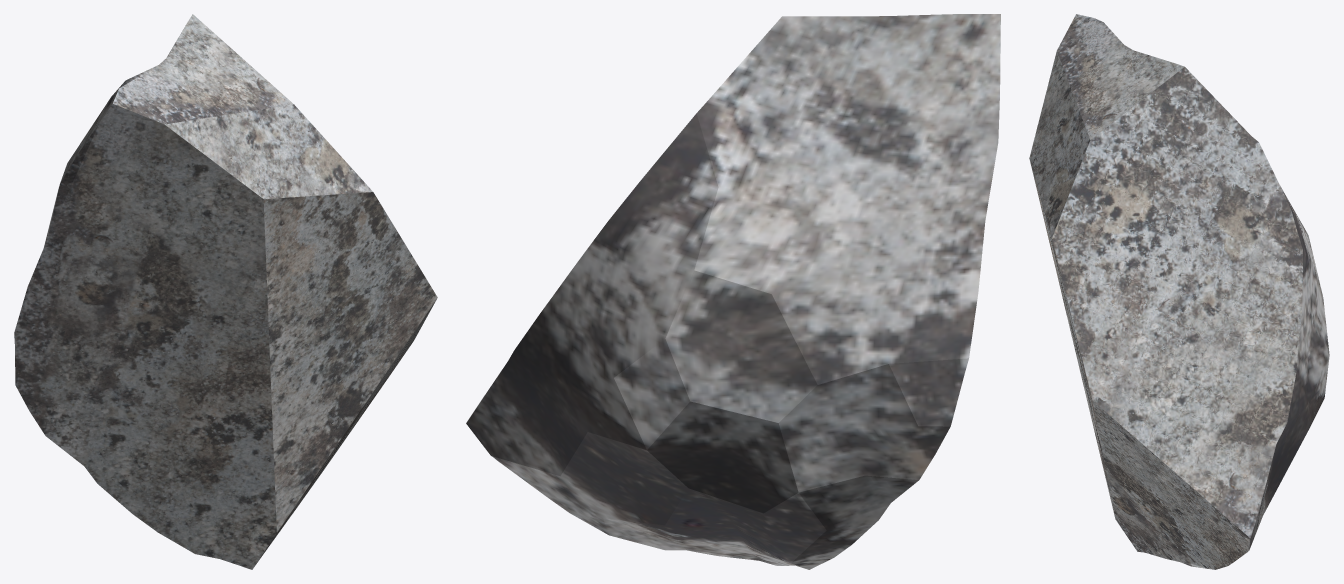
The model's file is Asteroid_Large_001_02_003.fbx.
3 views of the same model, side by side, from view 1: azimuth 30°, elevation 25°; view 2: azimuth 150°, elevation 25°; view 3: azimuth 270°, elevation 25° (orthographic). The views are drawn at different scales.
Visible parts, largest first — view 1: Asteroid_Large_001_02_003; view 2: Asteroid_Large_001_02_003; view 3: Asteroid_Large_001_02_003.
Boxes of the visible parts, x1=… form: Asteroid_Large_001_02_003: x1=14, y1=14, x2=437, y2=569; Asteroid_Large_001_02_003: x1=466, y1=14, x2=1000, y2=569; Asteroid_Large_001_02_003: x1=1029, y1=14, x2=1329, y2=569.
Size of the model in its own units: 19.85 by 23.66 by 13.66.
